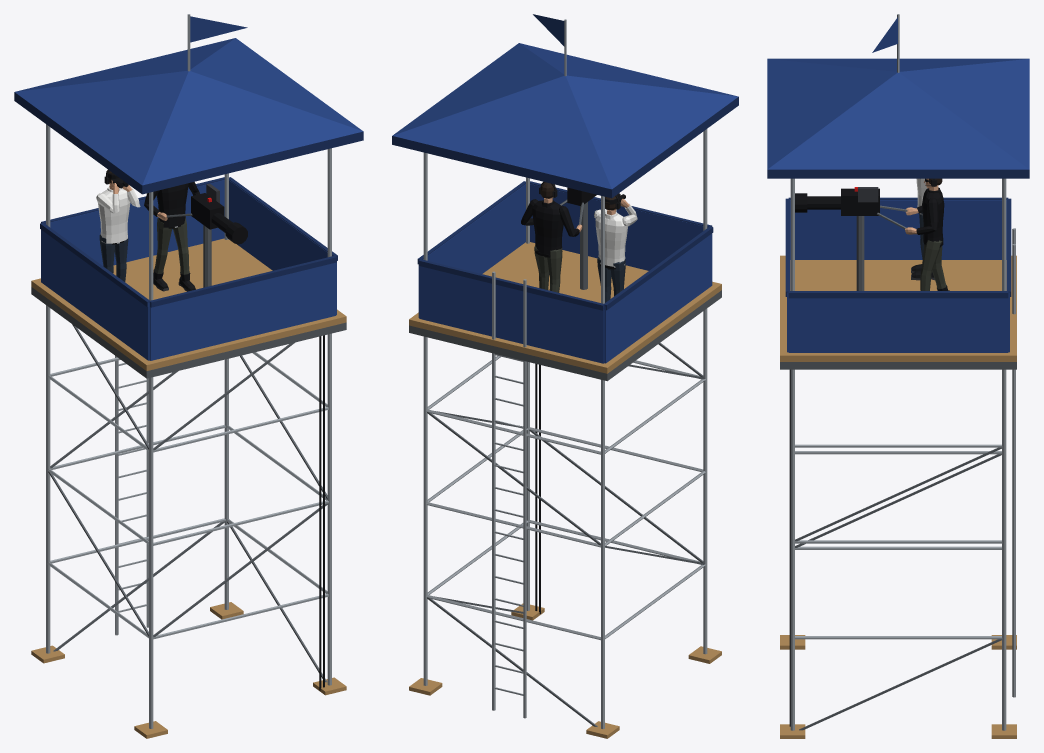
Rendered from tv_tower.glb.
3 views of the same model, side by side, from view 1: azimuth 30°, elevation 25°; view 2: azimuth 150°, elevation 25°; view 3: azimuth 270°, elevation 25° (orthographic). The views are drawn at different scales.
Parts seen in each view (by area): view 1: Tower, Track, Track.001, Pennant; view 2: Tower, Track, Track.001; view 3: Tower, Track, Track.001.
Part boxes in pixels (x1=…): Tower: x1=14, y1=38, x2=363, y2=738; Track: x1=144, y1=181, x2=247, y2=291; Track.001: x1=96, y1=169, x2=140, y2=281; Pennant: x1=190, y1=16, x2=247, y2=42; Tower: x1=392, y1=43, x2=738, y2=738; Track: x1=521, y1=181, x2=596, y2=292; Track.001: x1=594, y1=193, x2=637, y2=302; Tower: x1=767, y1=58, x2=1029, y2=738; Track: x1=795, y1=178, x2=949, y2=290; Track.001: x1=911, y1=178, x2=934, y2=280.
Bounding box in the file's own units: 3.1 × 8.81 × 3.1.
